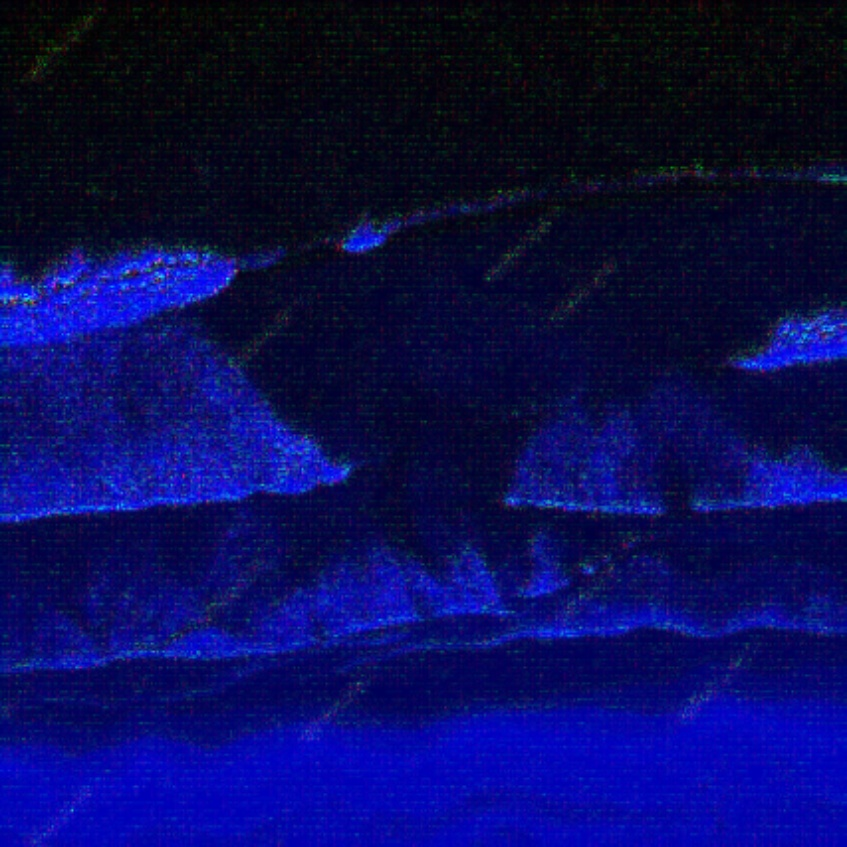rip_current: (165, 169, 573, 566)
